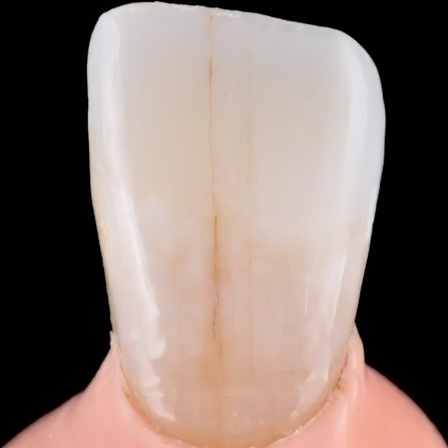coin_1: (356, 320, 376, 340)
coin_2: (384, 152, 404, 172)
coin_3: (112, 328, 132, 348)
coin_4: (91, 195, 111, 215)
